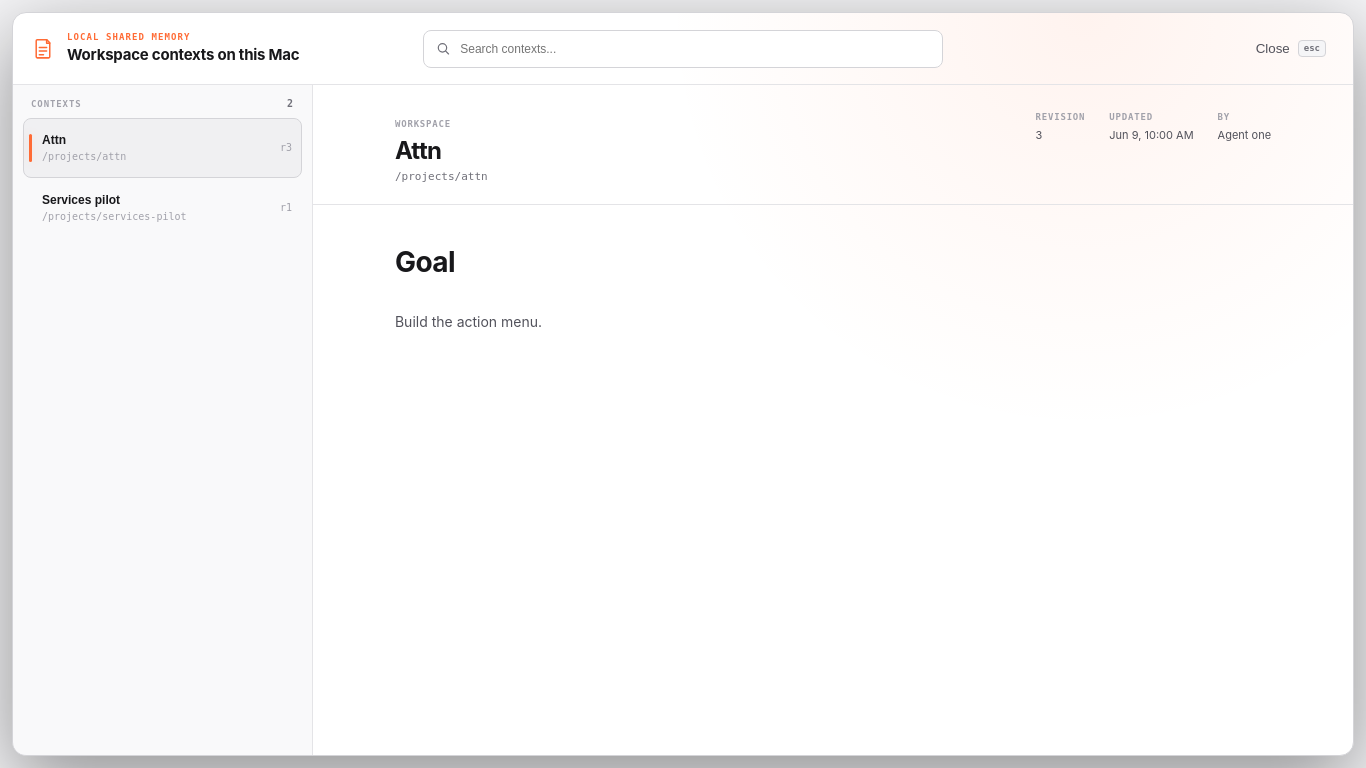
Test case: WorkspaceContextNavigator › filters by context content
Type "deploy" into the field named "Search workspace contexts".
click(695, 48); type("deploy")  # box [460, 42, 930, 56]
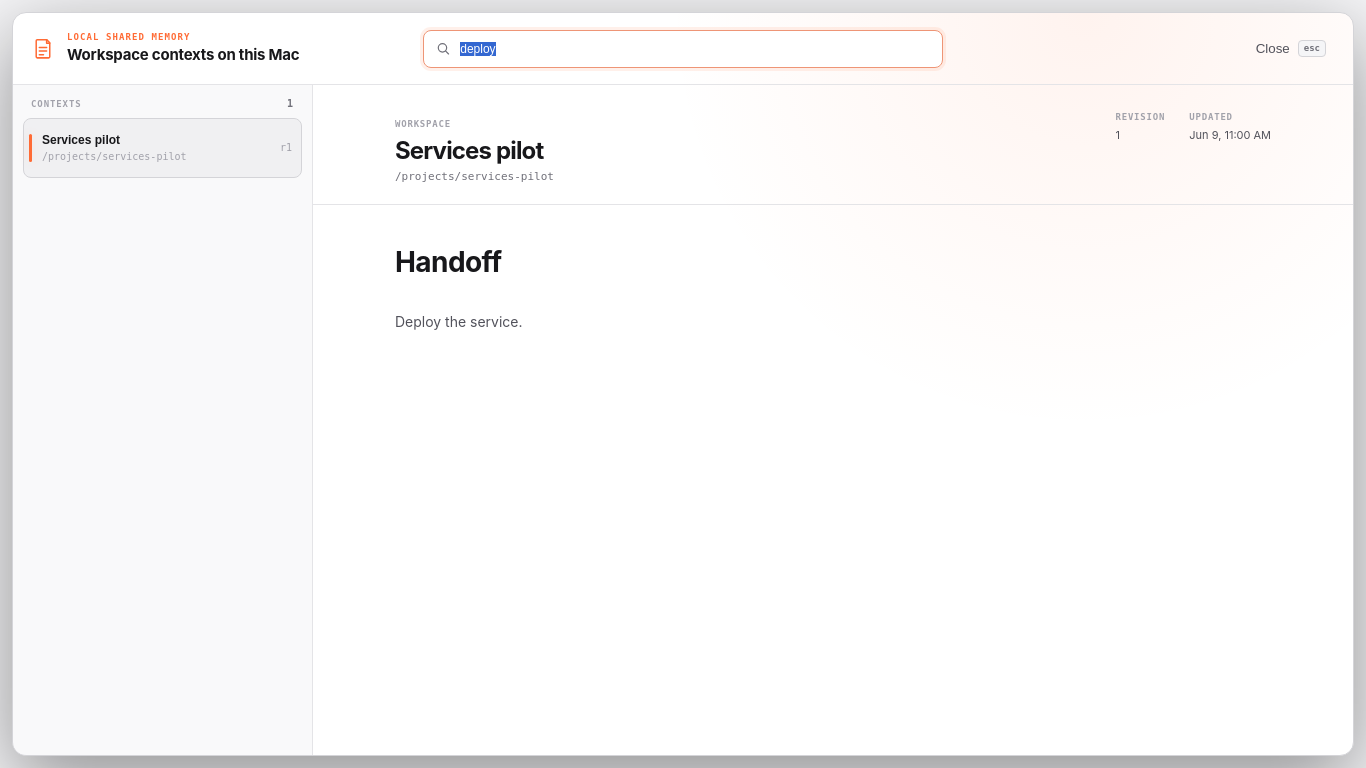
Expected: the button "Services pilot /projects/services-pilot r1" is shown, [23, 118, 302, 178]
Now the button "Attn" is gone
Now the text "Deploy the service." is shown, box [395, 313, 523, 330]
